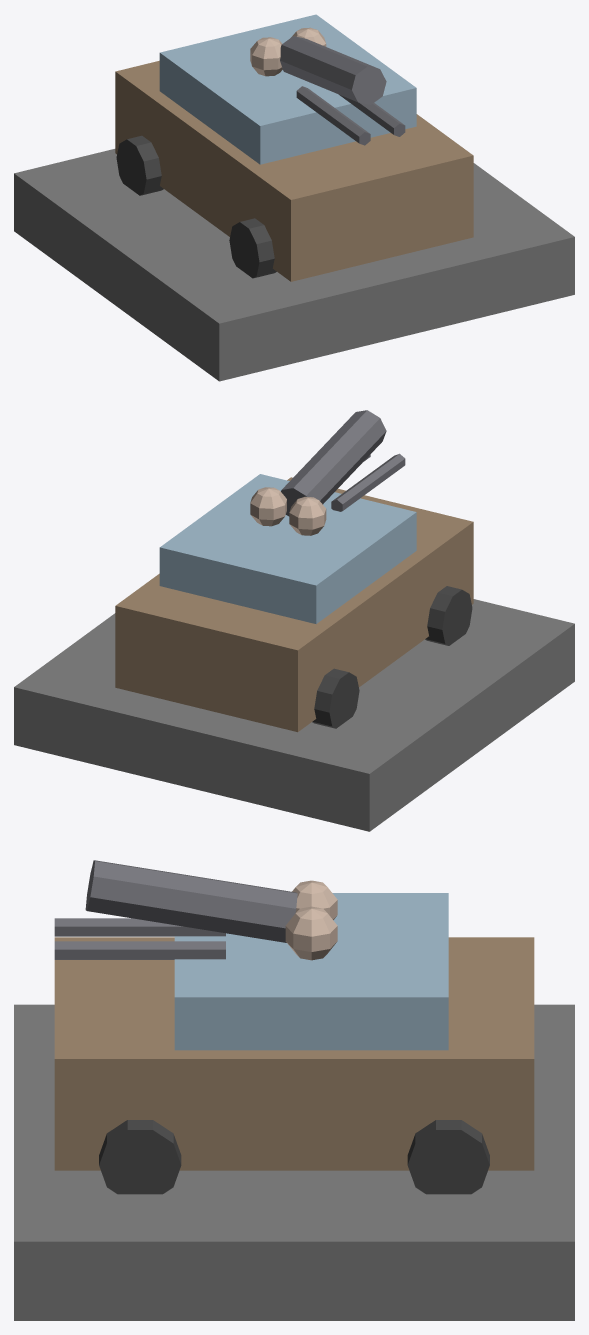
The model's file is orc_wagon.glb.
3 views of the same model, one above another, from view 1: azimuth 30°, elevation 25°; view 2: azimuth 150°, elevation 25°; view 3: azimuth 270°, elevation 25° (orthographic). The views are drawn at different scales.
Parts seen in each view (by area): view 1: TurretMesh, Base, GunsMesh; view 2: TurretMesh, Base, GunsMesh; view 3: TurretMesh, Base, GunsMesh.
Part boxes in pixels (<box>): TurretMesh: <box>115,14,473,281</box>; Base: <box>14,149,574,381</box>; GunsMesh: <box>280,36,405,145</box>; TurretMesh: <box>115,474,473,732</box>; Base: <box>14,599,574,831</box>; GunsMesh: <box>281,410,405,516</box>; TurretMesh: <box>54,880,534,1194</box>; Base: <box>14,1004,574,1320</box>; GunsMesh: <box>54,860,297,959</box>.
Bounding box in the file's own units: 1.8 × 1.21 × 1.8.
